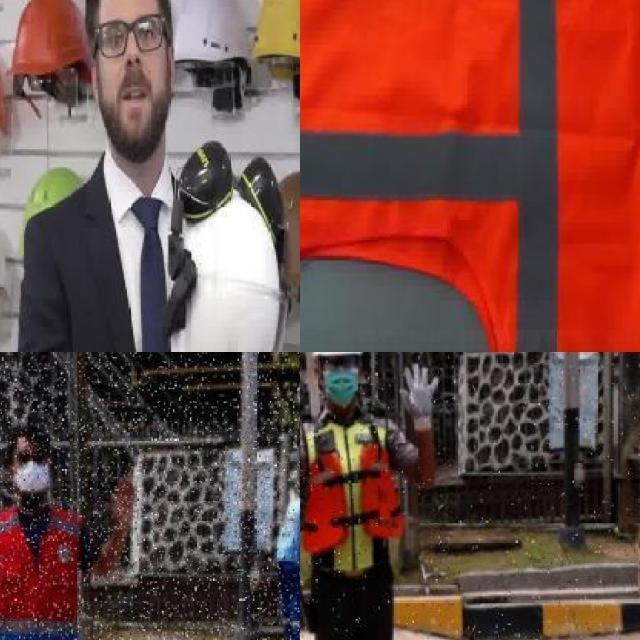apron: (398, 362, 441, 436)
